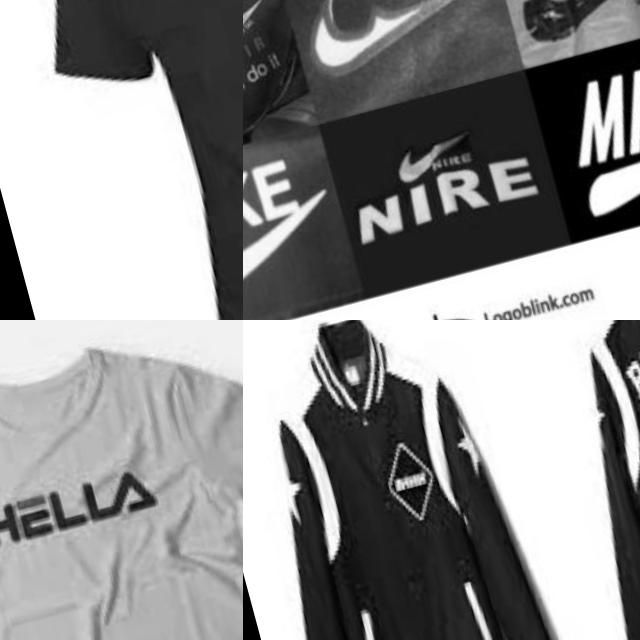FILA_fake: (0, 449, 180, 579)
NIKE_fake: (332, 88, 554, 278), (536, 32, 640, 224), (243, 141, 352, 320), (287, 0, 509, 87), (243, 0, 306, 163)
